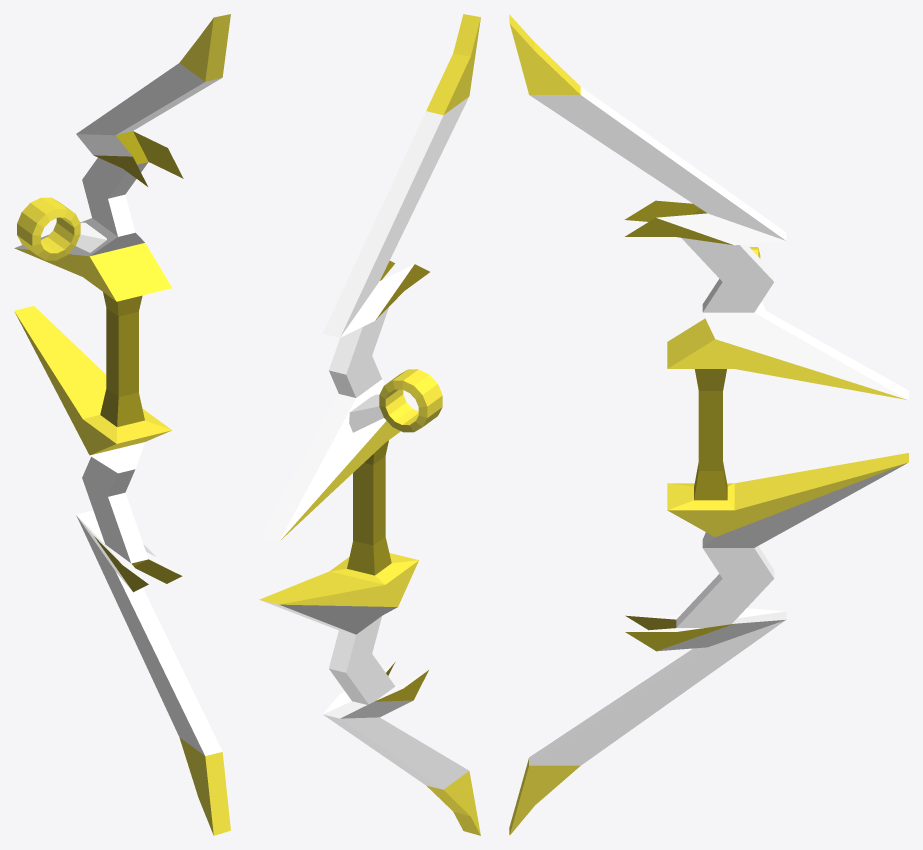
File: bow_fast.glb
3 views of the same model, side by side, from view 1: azimuth 30°, elevation 25°; view 2: azimuth 150°, elevation 25°; view 3: azimuth 270°, elevation 25° (orthographic).
Visible parts, largest first — view 1: Cube; view 2: Cube; view 3: Cube.
Boxes of the visible parts, <box> form: Cube: <box>14,14,230,835</box>; Cube: <box>259,14,480,835</box>; Cube: <box>509,14,908,835</box>.
Size of the model in its own units: 1.11 by 7.93 by 3.53.
Materials: 1 (1 with a texture image).
